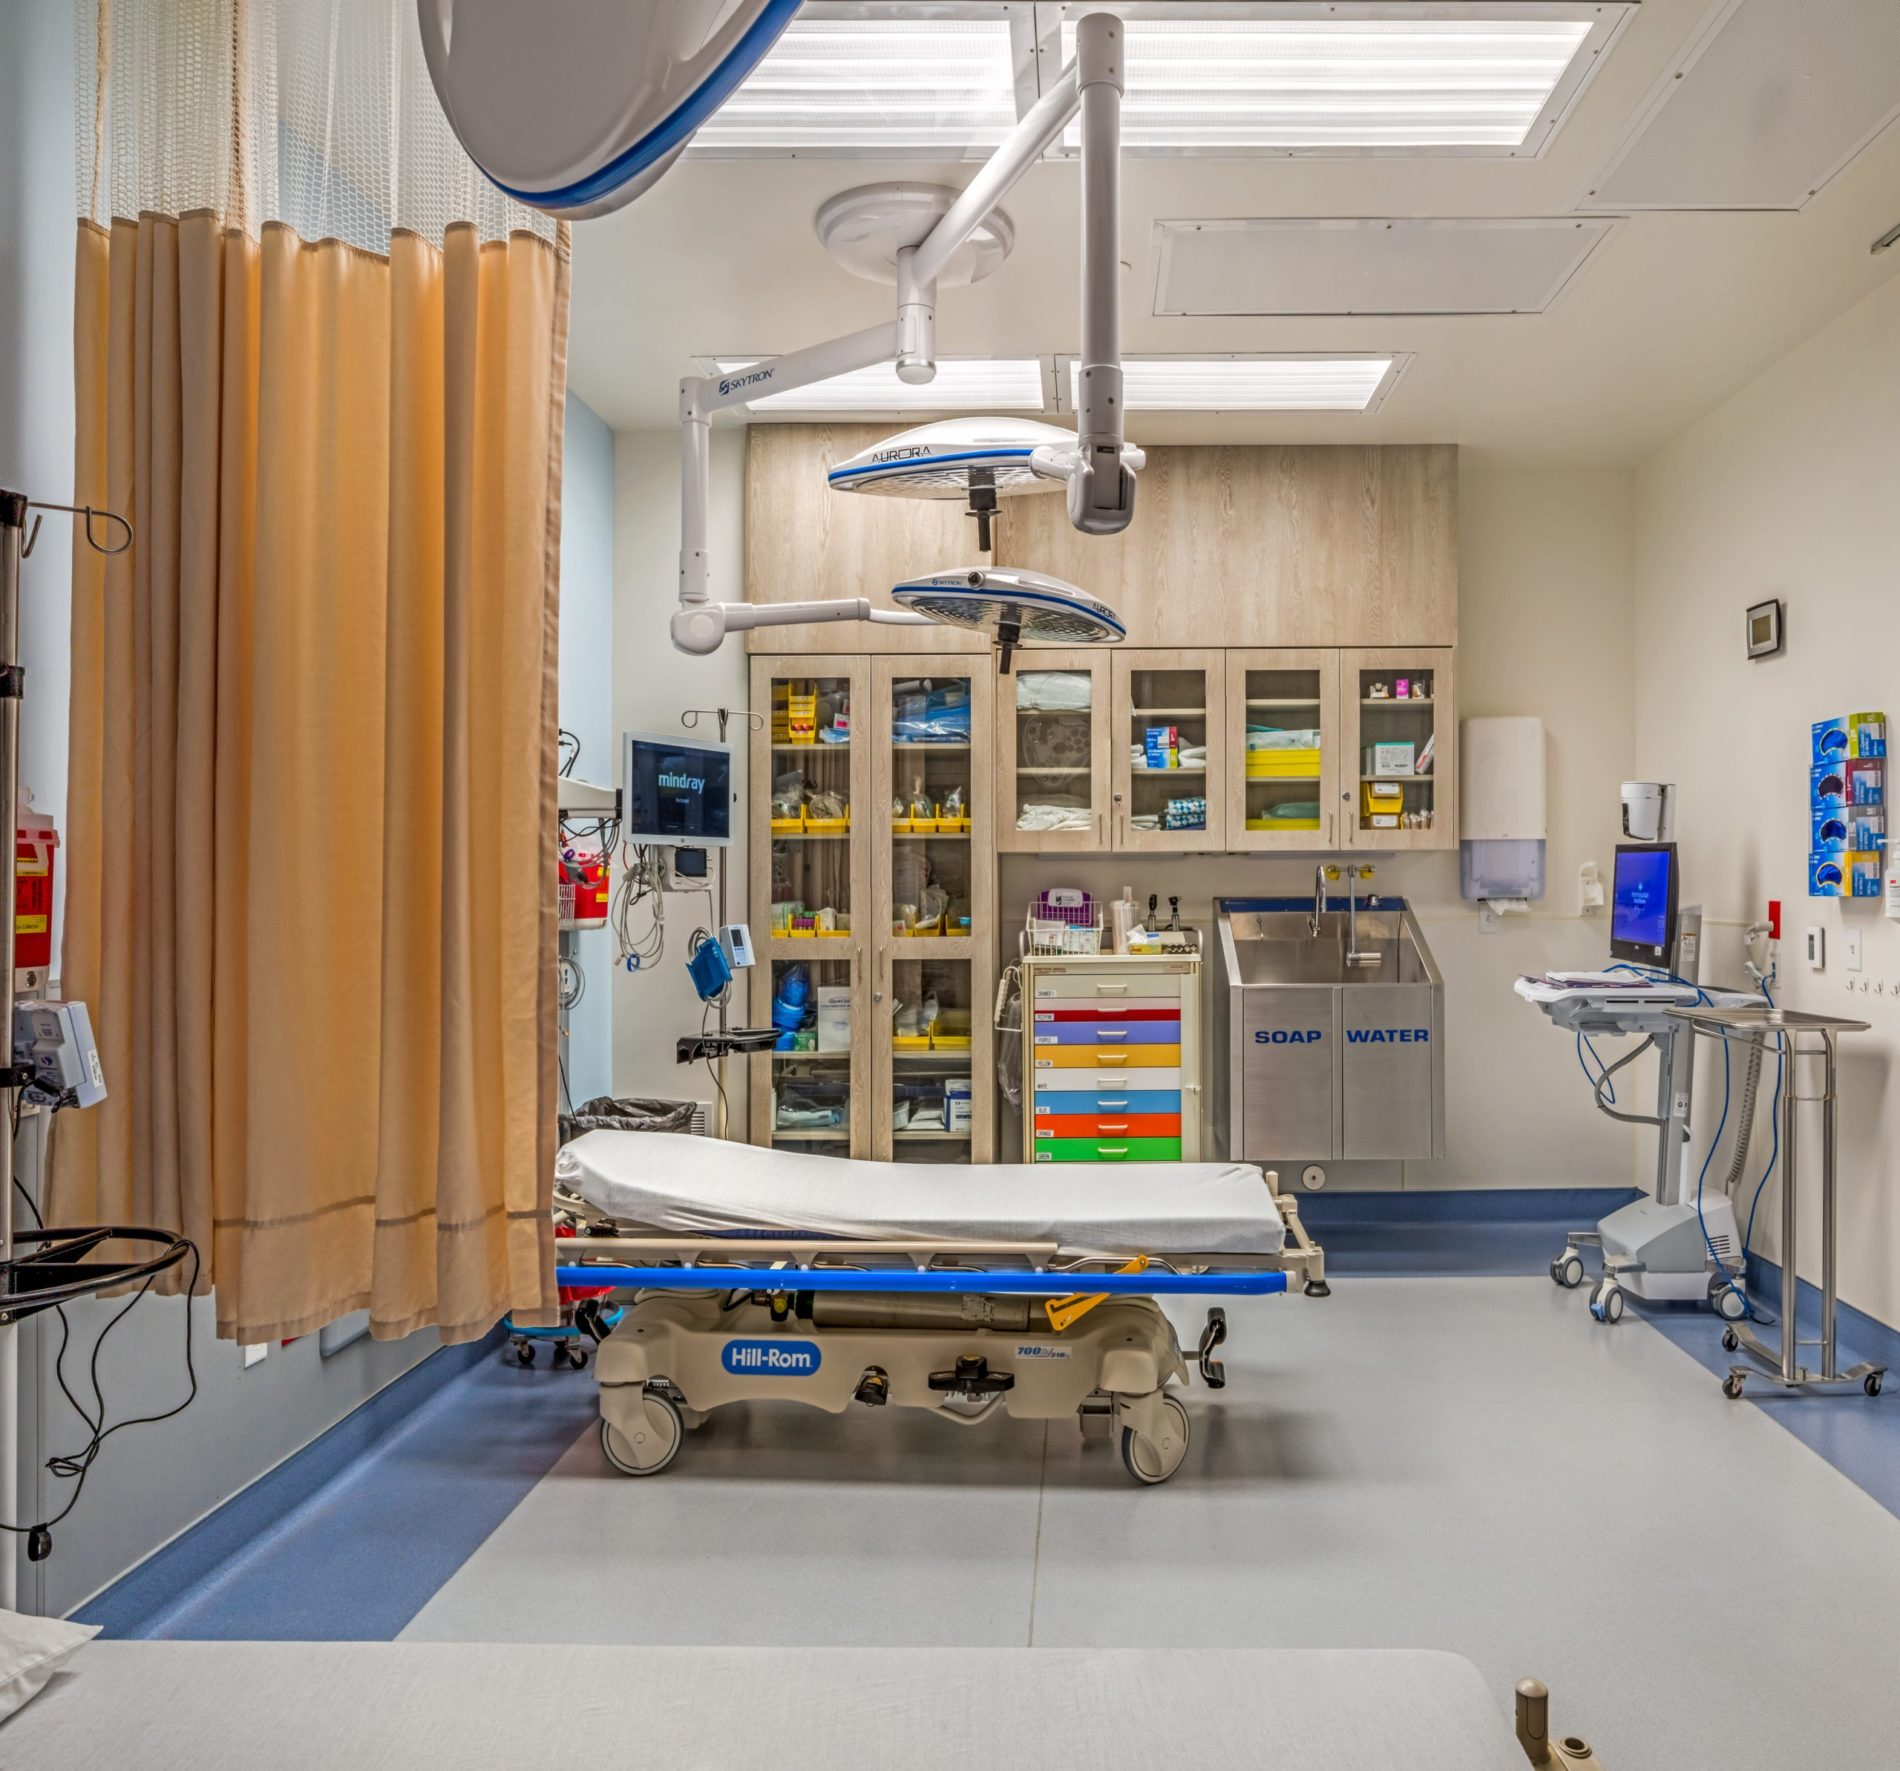bedside_monitor: (622, 731, 735, 846), (1609, 842, 1679, 965)
cabinet: (754, 646, 1452, 1162)
curtain: (42, 2, 572, 1350)
dispenser: (1457, 717, 1546, 914)
faucet: (1301, 864, 1379, 967)
handle: (1096, 1147, 1125, 1155), (1096, 1100, 1125, 1109), (1098, 1124, 1126, 1132), (1096, 1052, 1125, 1060), (1096, 1079, 1125, 1087), (1096, 1007, 1125, 1015), (1096, 1029, 1125, 1037), (1098, 982, 1126, 990), (878, 947, 885, 977), (1328, 812, 1333, 844), (857, 949, 862, 979), (1100, 811, 1103, 842), (1120, 812, 1123, 844), (1349, 812, 1353, 842)
hospital_bed: (551, 1129, 1331, 1485), (2, 1610, 1604, 1771)
iv_pole: (2, 488, 140, 1611), (680, 709, 767, 1137)
medical_drawer: (1018, 927, 1205, 1165)
surgical_light: (414, 2, 804, 225), (829, 416, 1146, 551), (892, 566, 1126, 674)
utility_cart: (1660, 1005, 1887, 1401)
waste_bin: (561, 1095, 695, 1137)
